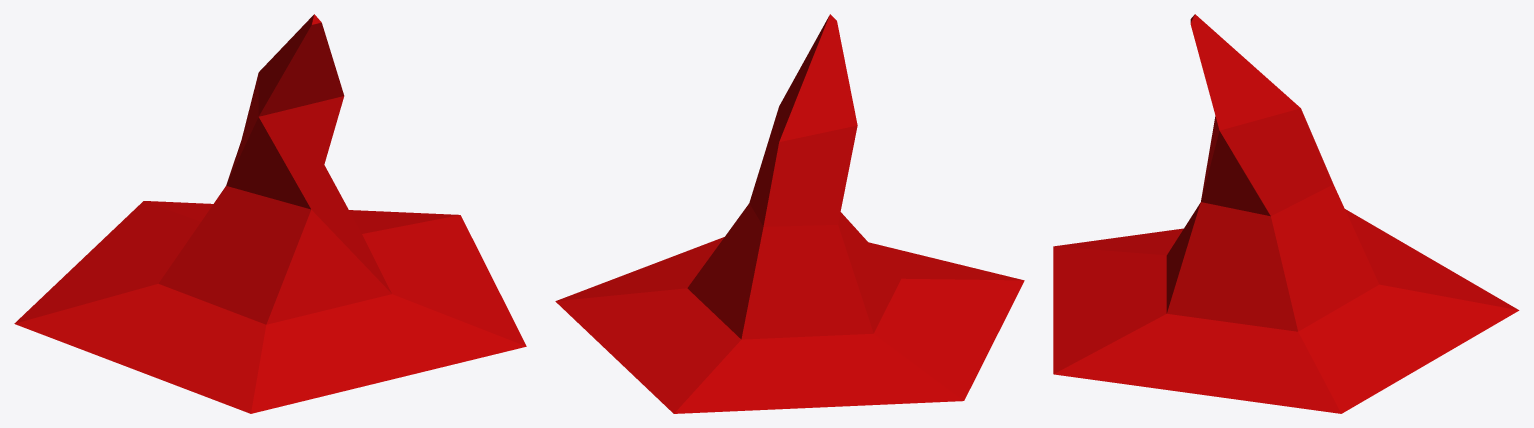
File: Wizard hat red pointy.obj
The picture shows the model from 3 angles, left to right: view 1: azimuth 30°, elevation 25°; view 2: azimuth 150°, elevation 25°; view 3: azimuth 270°, elevation 25°; orthographic projection. The views are drawn at different scales.
Parts seen in each view (by area): view 1: Circle.002; view 2: Circle.002; view 3: Circle.002.
Part boxes in pixels (x1,y1,x2,y2): Circle.002: [14, 14, 526, 413]; Circle.002: [555, 14, 1024, 413]; Circle.002: [1053, 14, 1519, 413].
Bounding box in the file's own units: 4.17 × 2.78 × 3.97.
